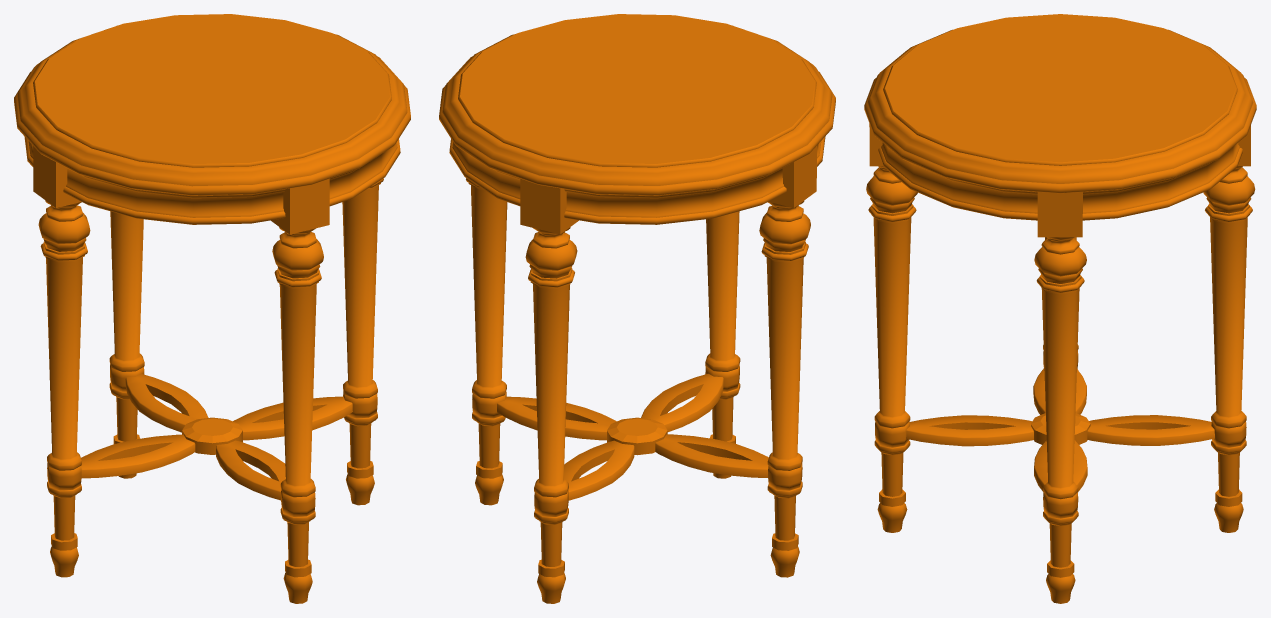
Rendered from TABLE 2.glb.
3 views of the same model, side by side, from view 1: azimuth 30°, elevation 25°; view 2: azimuth 150°, elevation 25°; view 3: azimuth 270°, elevation 25° (orthographic).
Visible parts, largest first — view 1: table_1; view 2: table_1; view 3: table_1.
Part boxes in pixels (bbox=[...]): table_1: bbox=[14, 14, 410, 603]; table_1: bbox=[439, 14, 835, 603]; table_1: bbox=[864, 14, 1256, 603].
Size of the model in its own units: 0.5638 by 0.6994 by 0.5638.
